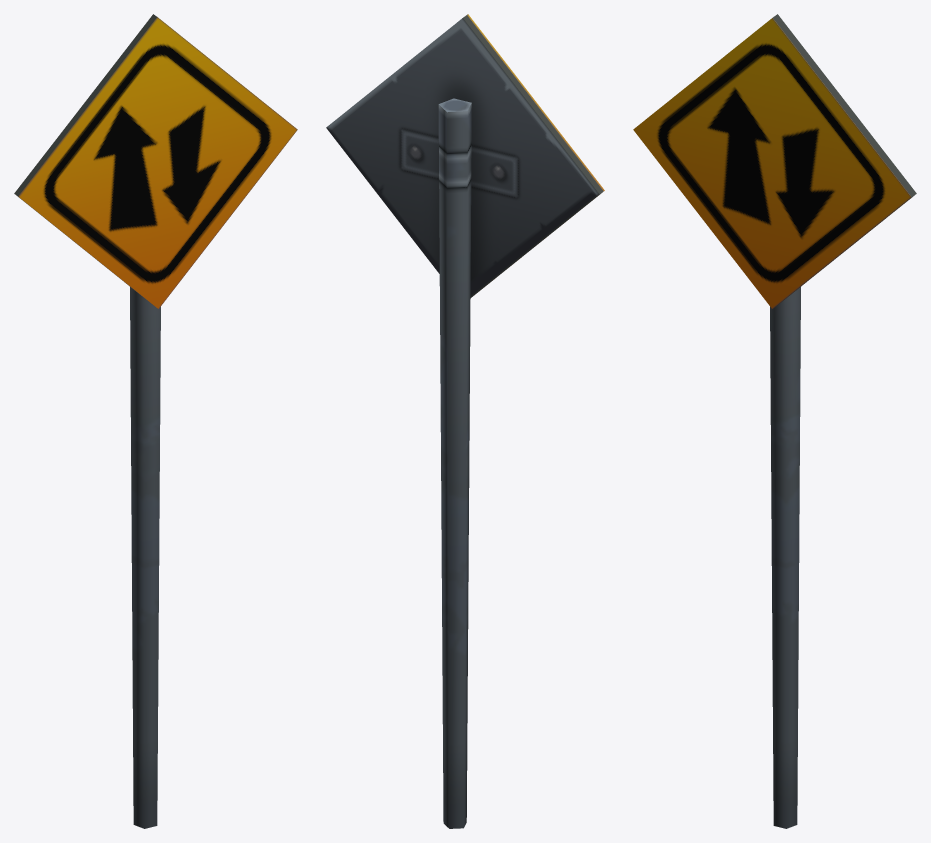
File: Signboard3.fbx
The picture shows the model from 3 angles, left to right: view 1: azimuth 30°, elevation 25°; view 2: azimuth 150°, elevation 25°; view 3: azimuth 330°, elevation 25°; orthographic projection.
Parts seen in each view (by area): view 1: polySurface138; view 2: polySurface138; view 3: polySurface138.
Boxes of the visible parts, x1,y1,x2,y2 form: polySurface138: (14, 14, 297, 828); polySurface138: (326, 14, 604, 828); polySurface138: (633, 14, 916, 828).
Size of the model in its own units: 1.35 by 3.78 by 0.1806.
